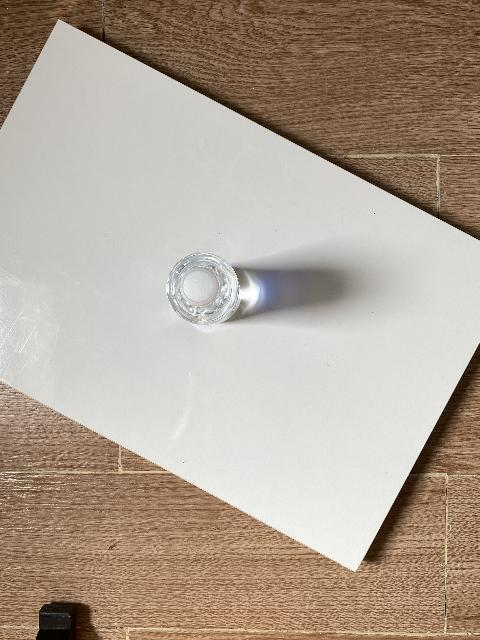aquafina: (166, 252, 241, 326)
